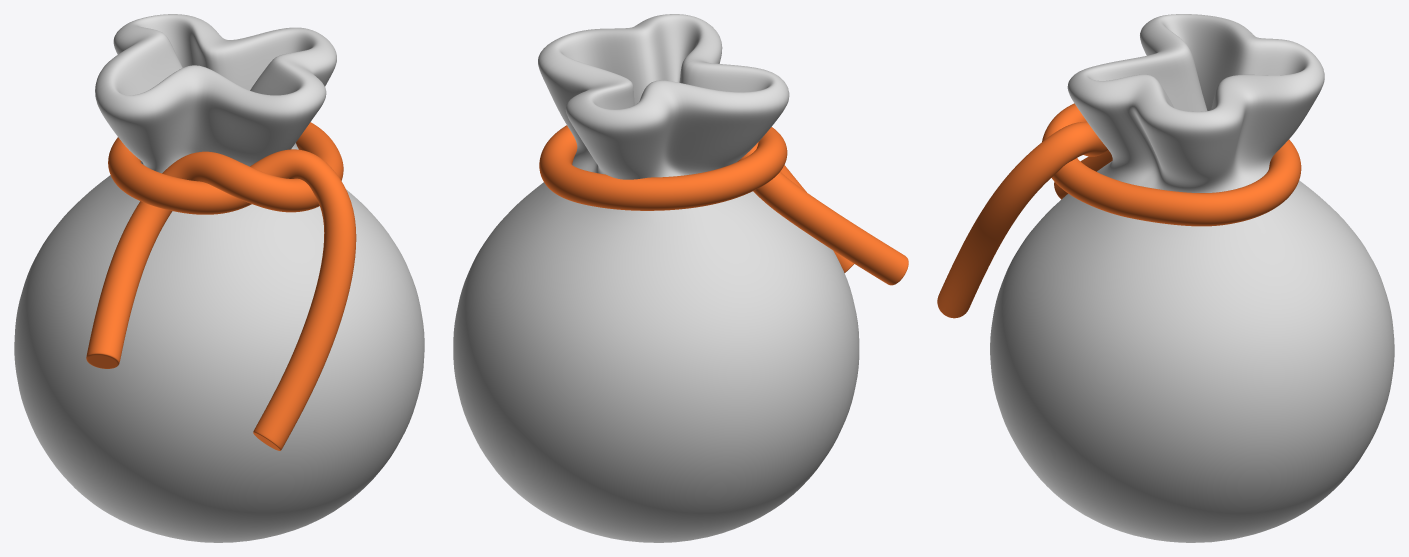
File: bag.glb
3 renders of one model, left to right at view 1: azimuth 30°, elevation 25°; view 2: azimuth 150°, elevation 25°; view 3: azimuth 270°, elevation 25°, orthographic.
Visible parts, largest first — view 1: Cube.023; view 2: Cube.023; view 3: Cube.023.
Boxes of the visible parts, x1,y1,x2,y2 form: Cube.023: [14, 14, 424, 542]; Cube.023: [453, 14, 908, 542]; Cube.023: [937, 14, 1394, 542].
Size of the model in its own units: 1.56 by 1.91 by 1.69.
